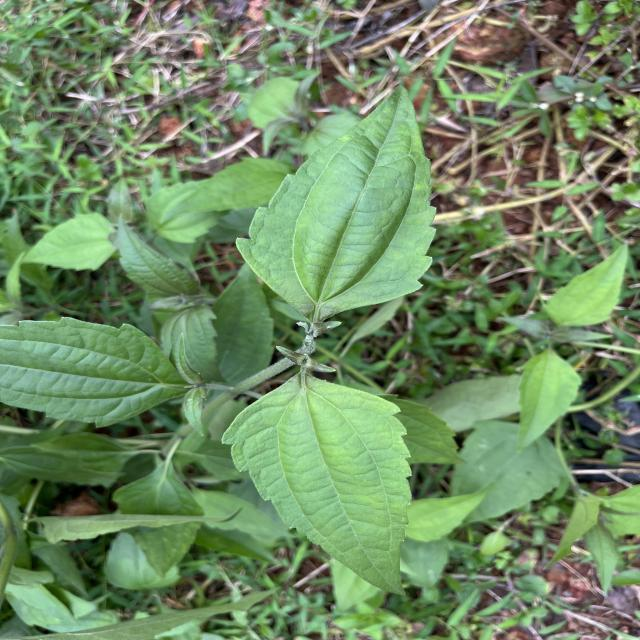Chromolaena odorata: (232, 79, 442, 324), (216, 369, 417, 602)
